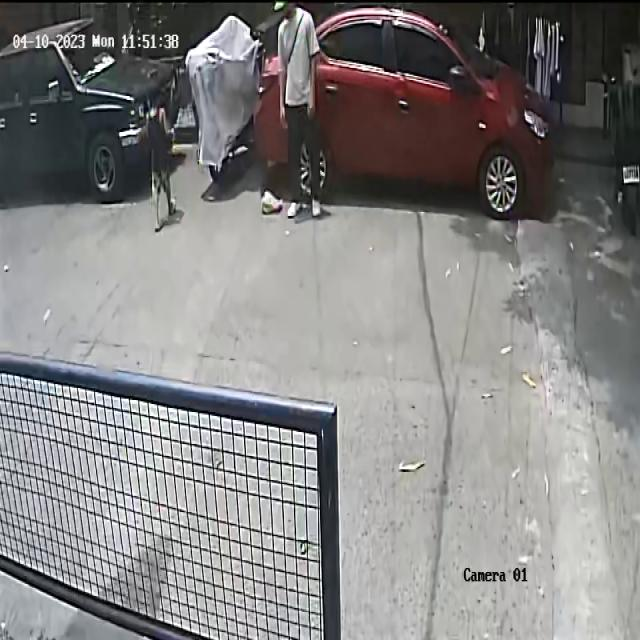garbage_dumping: (259, 182, 288, 216)
